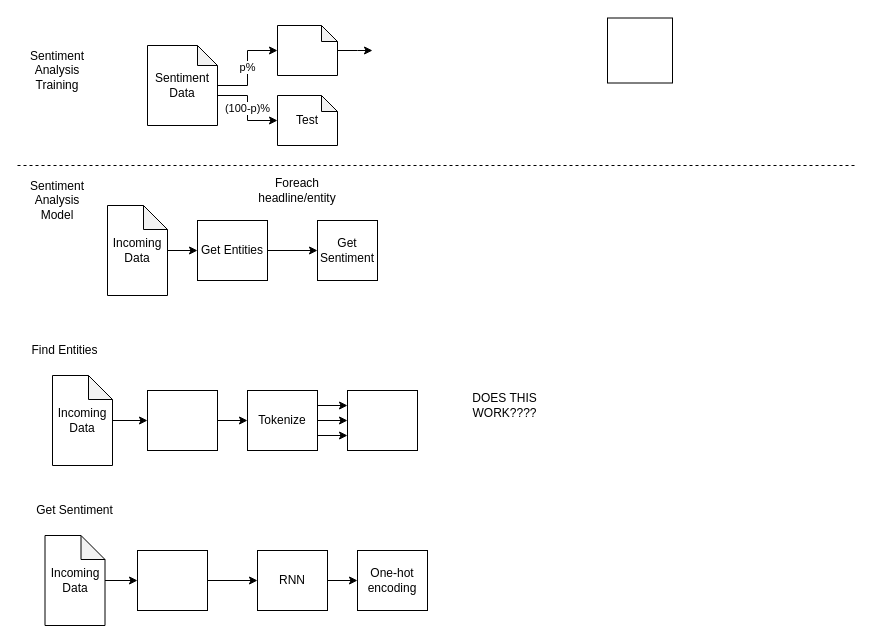
This 876x643 diagram has some shape labels left out. The centre of each missing label's shape, as x and y in pixels:
"is nsubj?" belongs at point 382,420.
"Model ??" belongs at point 639,50.
"Prepro-cessing" belongs at point 172,580.
"spaCy" belongs at point 182,420.
"Train" belongs at point 307,50.
